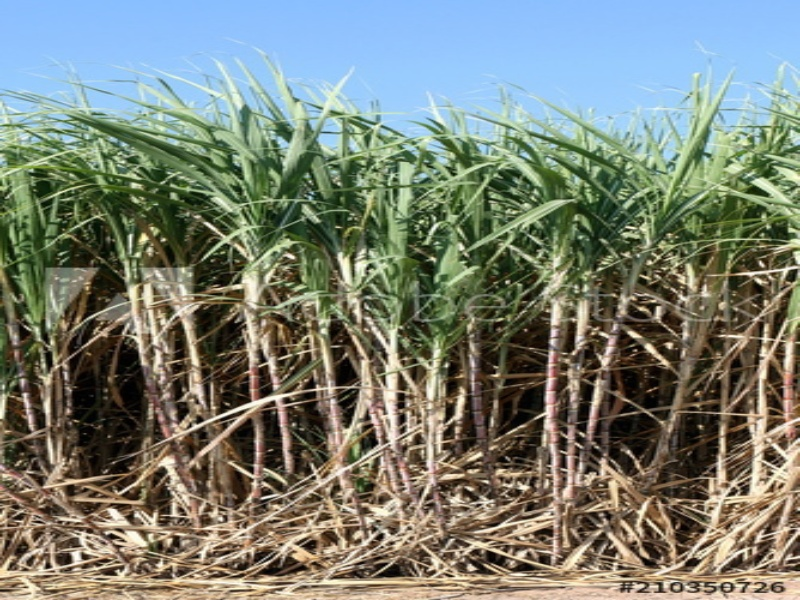sugarcane: (9, 61, 800, 578)
